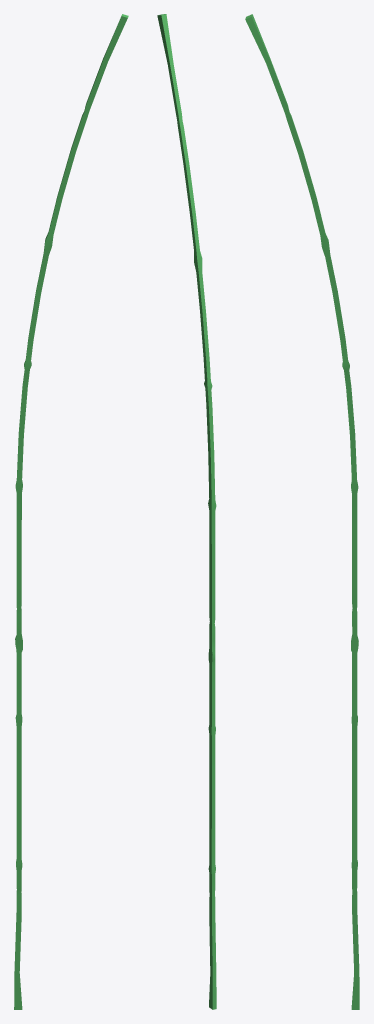
The model's file is jungle_slime_D_knots.fbx.
The picture shows the model from 3 angles, left to right: view 1: azimuth 90°, elevation 25°; view 2: azimuth 210°, elevation 25°; view 3: azimuth 270°, elevation 25°; orthographic projection. The views are drawn at different scales.
Visible parts, largest first — view 1: jungle_slime_D_knots; view 2: jungle_slime_D_knots; view 3: jungle_slime_D_knots.
Boxes of the visible parts, <box> form: jungle_slime_D_knots: <box>14,14,128,1009</box>; jungle_slime_D_knots: <box>157,14,216,1009</box>; jungle_slime_D_knots: <box>245,14,359,1009</box>.
Size of the model in its own units: 4.41 by 676 by 70.69.
